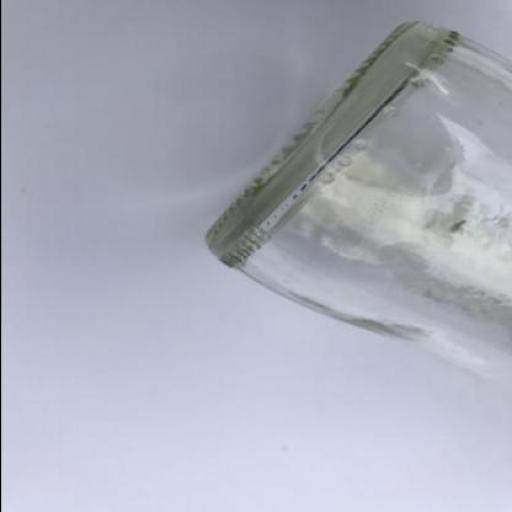glass: (200, 24, 510, 396)
